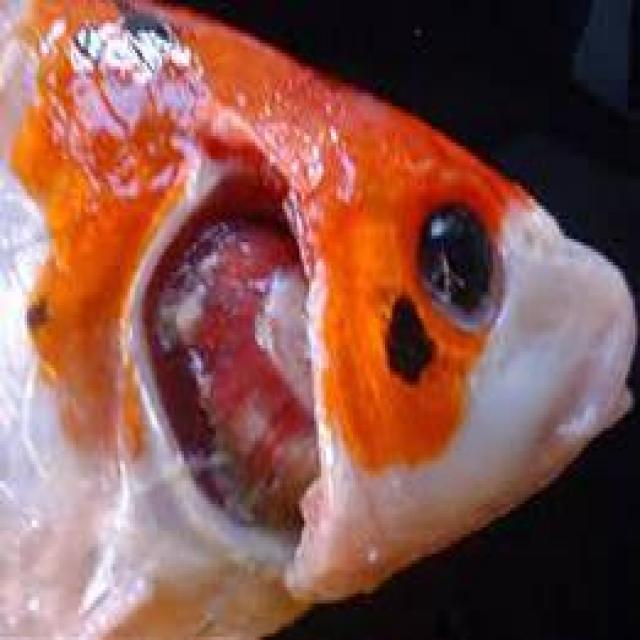Gill Disease: (52, 10, 634, 632)
